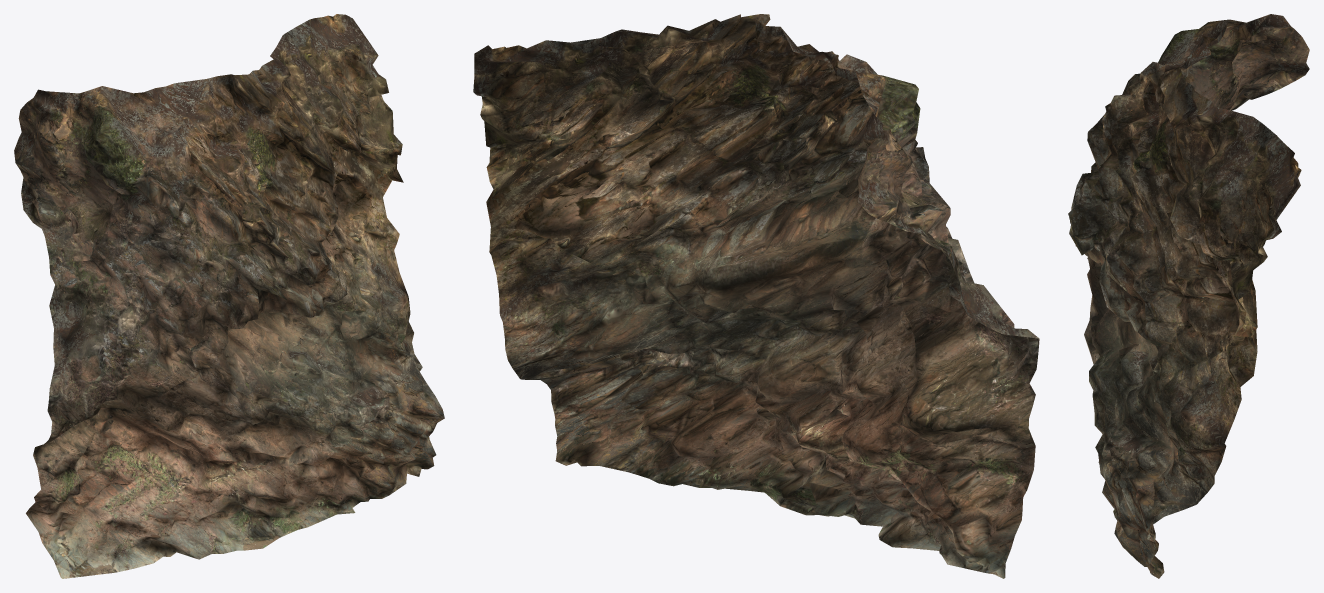
Rendered from mountainside-lod.glb.
3 renders of one model, left to right at view 1: azimuth 30°, elevation 25°; view 2: azimuth 150°, elevation 25°; view 3: azimuth 270°, elevation 25°, orthographic. The views are drawn at different scales.
Visible parts, largest first — view 1: mountainside; view 2: mountainside; view 3: mountainside.
Part boxes in pixels (x1,y1,x2,y2): mountainside: [14, 14, 444, 578]; mountainside: [473, 14, 1039, 578]; mountainside: [1068, 14, 1309, 578].
Size of the model in its own units: 10.19 by 10.52 by 5.25.
1 material, 1 textured.
